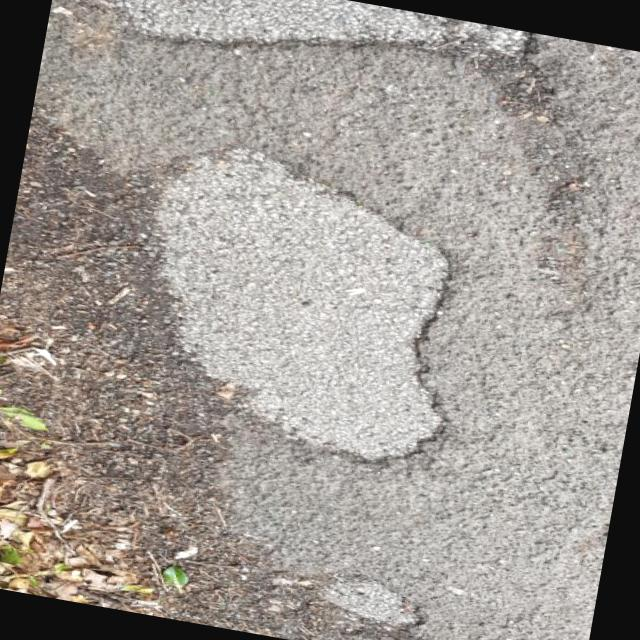pothole: (106, 130, 497, 478), (48, 0, 541, 109), (302, 569, 439, 640)
